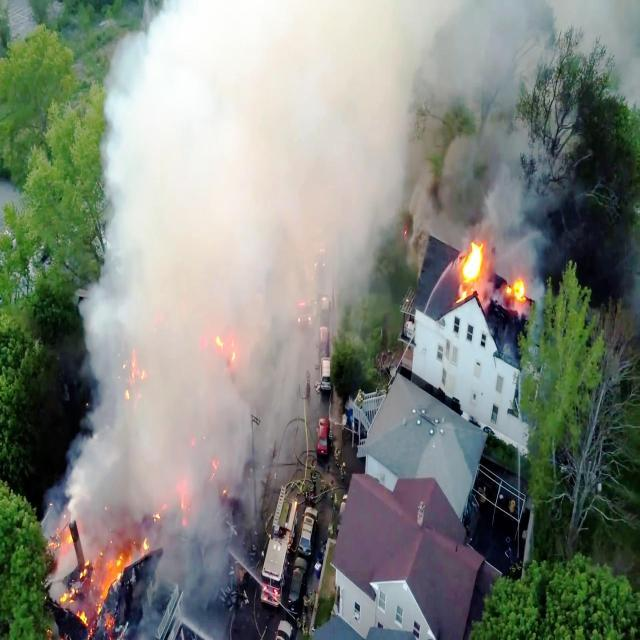Fire: (44, 528, 154, 640), (458, 230, 494, 308), (509, 269, 526, 324)
Smoke: (98, 0, 640, 223), (58, 217, 403, 520), (154, 522, 246, 636), (498, 225, 548, 278)
